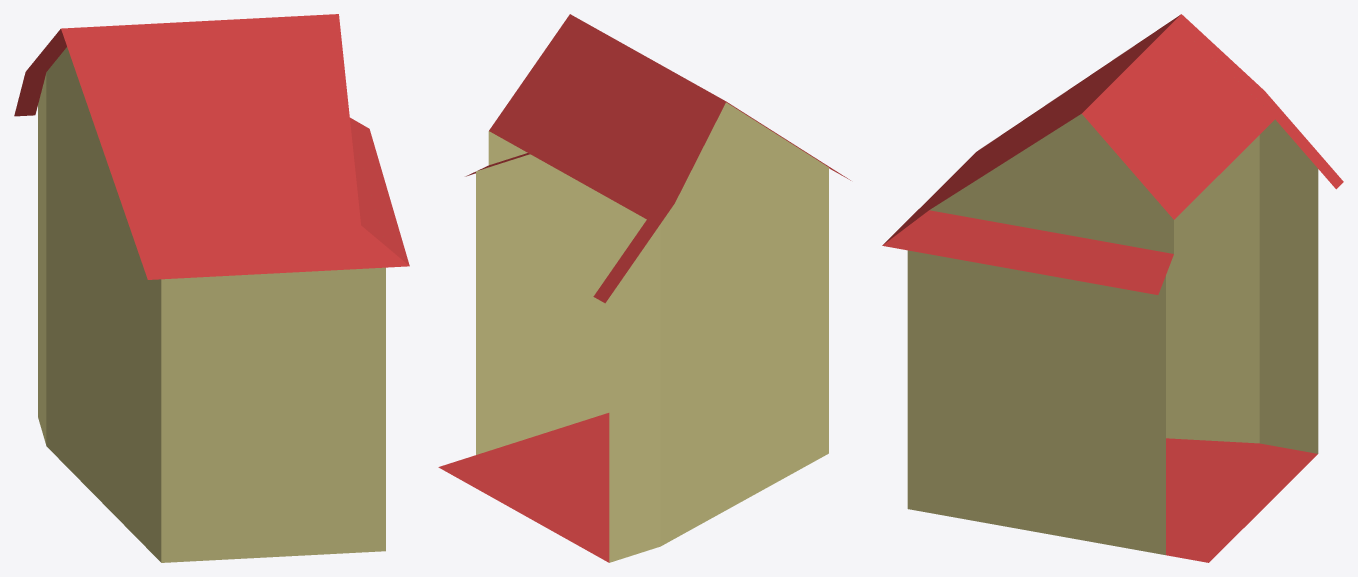
3 renders of one model, left to right at view 1: azimuth 30°, elevation 25°; view 2: azimuth 150°, elevation 25°; view 3: azimuth 270°, elevation 25°, orthographic. The views are drawn at different scales.
Size of the model in its own units: 8.67 by 11.79 by 11.75.
